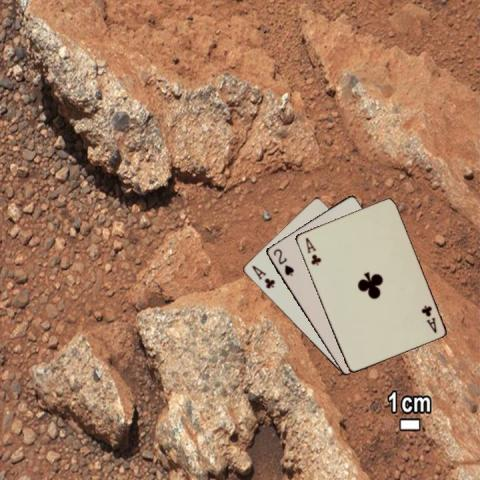2s: (270, 246, 295, 278)
Ac: (249, 263, 276, 290), (302, 234, 322, 266), (418, 303, 438, 334)
